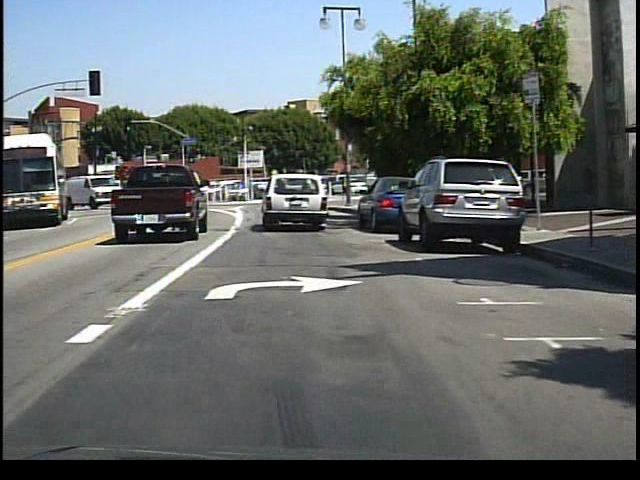person: (343, 176, 348, 203)
